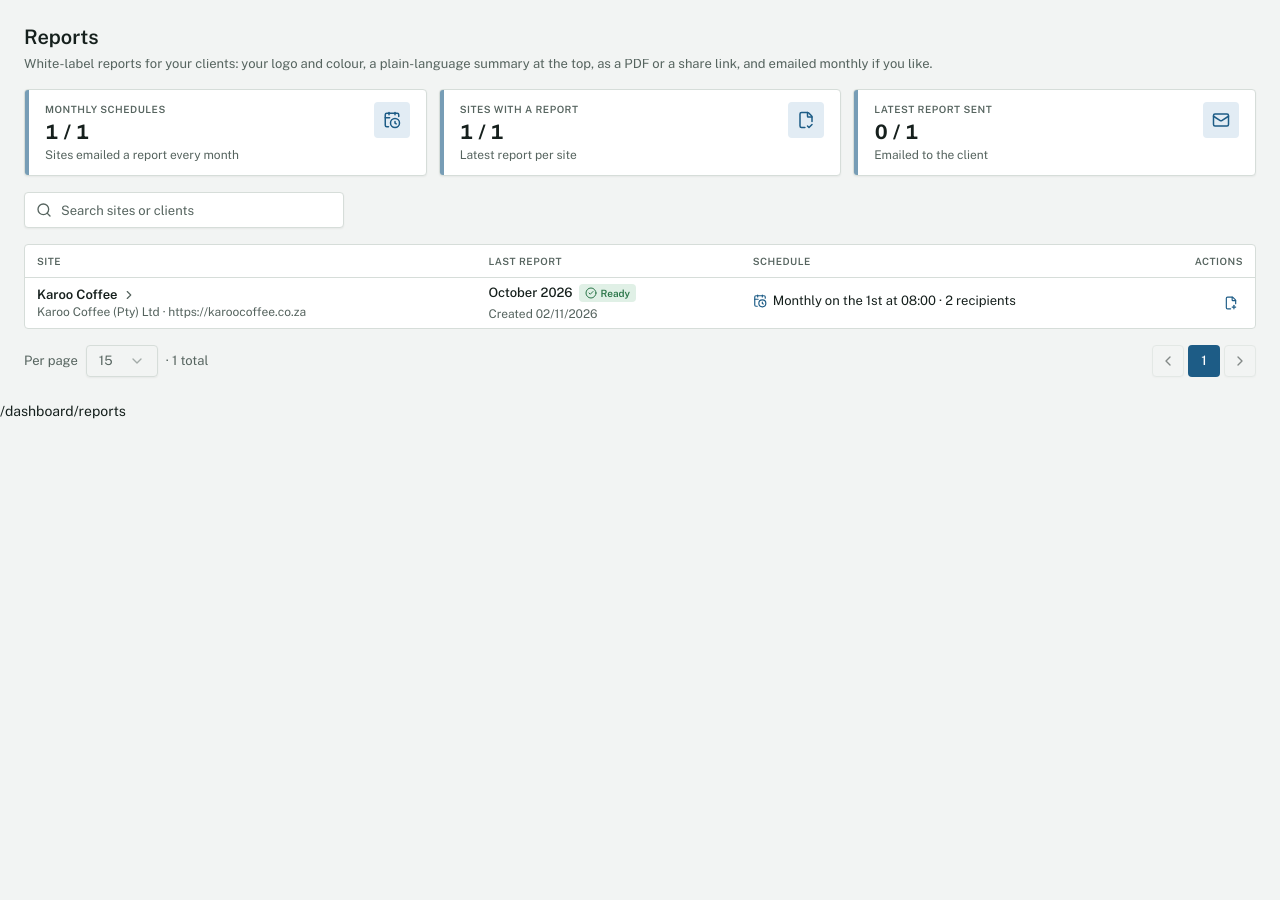
Test: ReportsPage (overview) › opens a site from its row and generates from the row action
Later steps or results of the test are not shown.
Click the button named "Generate a report for Karoo Coffee".
click(1231, 302)  # box left=1219, top=290, right=1243, bottom=314
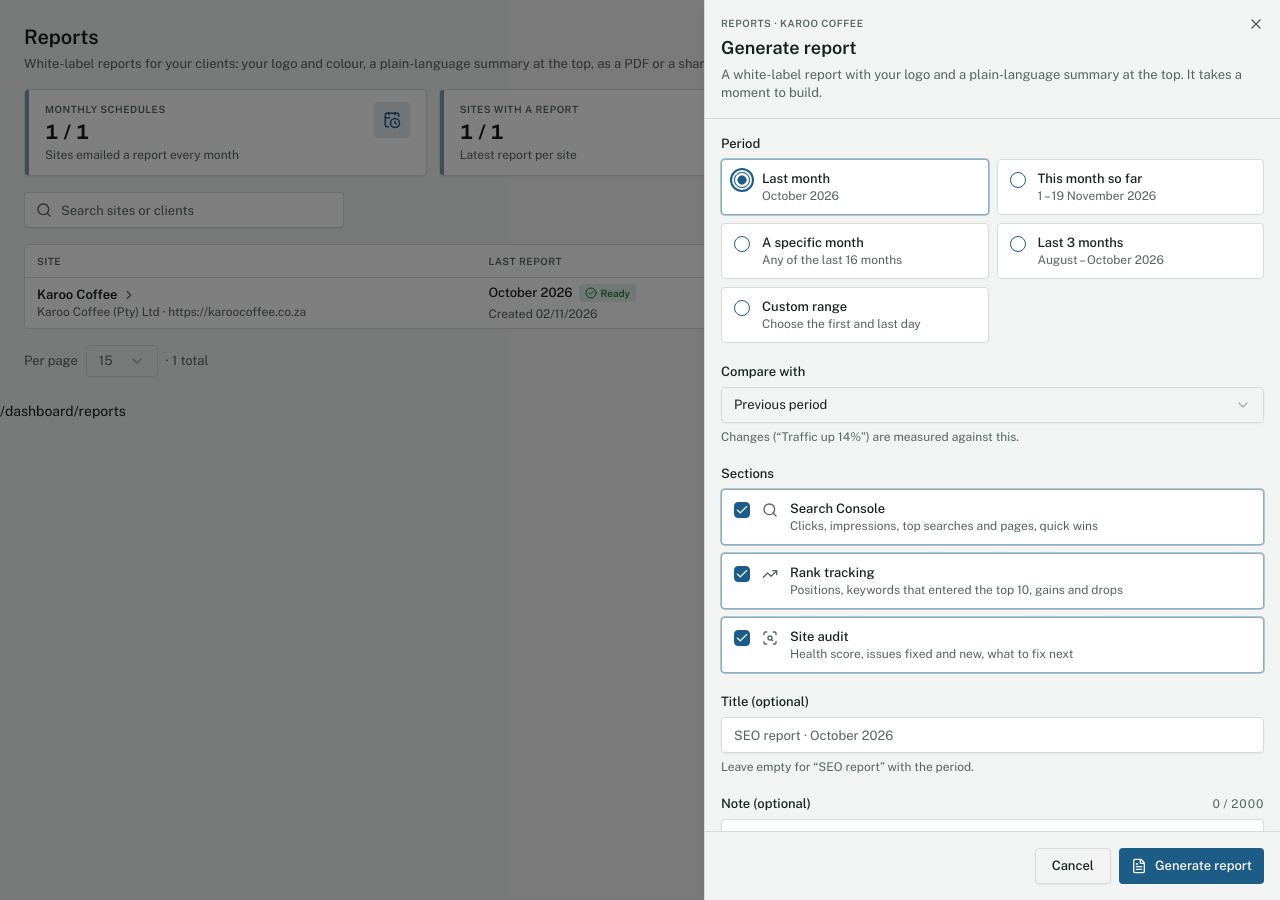
Expected: the text "Reports · Karoo Coffee" is shown, left=721, top=17, right=864, bottom=29
